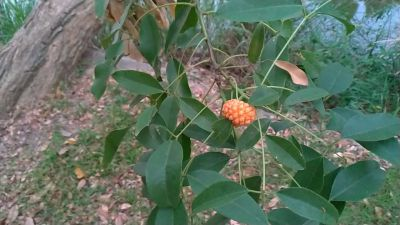eggs: (220, 100, 256, 124)
